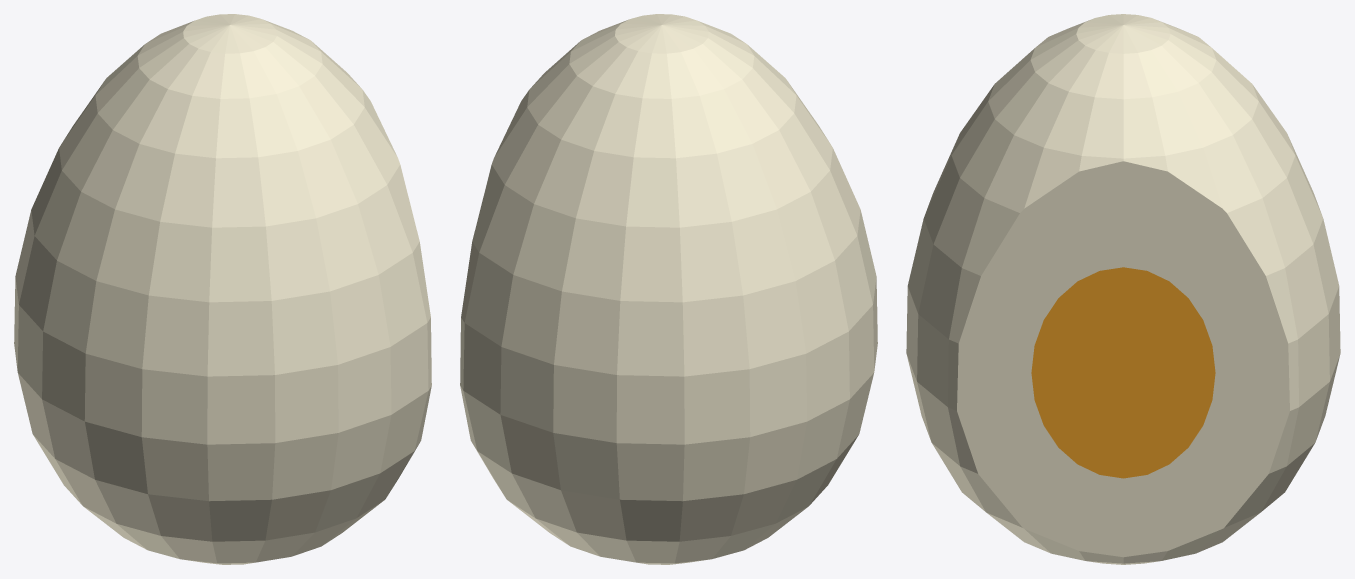
The model's file is SM_Egg_Cooked_A.fbx.
3 renders of one model, left to right at view 1: azimuth 30°, elevation 25°; view 2: azimuth 150°, elevation 25°; view 3: azimuth 270°, elevation 25°, orthographic.
Visible parts, largest first — view 1: SM_Egg_Cooked_A; view 2: SM_Egg_Cooked_A; view 3: SM_Egg_Cooked_A.
Boxes of the visible parts, left/top/right/bottom form: SM_Egg_Cooked_A: left=14, top=14, right=431, bottom=564; SM_Egg_Cooked_A: left=460, top=14, right=877, bottom=564; SM_Egg_Cooked_A: left=906, top=14, right=1340, bottom=564.
Size of the model in its own units: 30.18 by 24.69 by 40.
